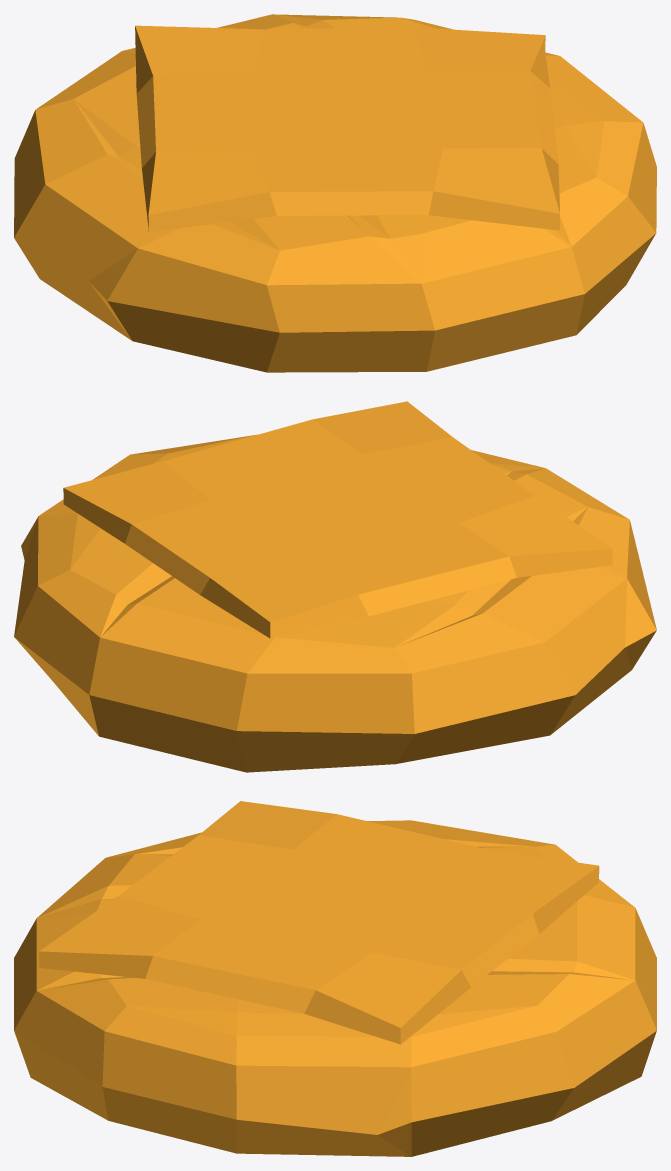
File: SM_Meat_Burger_Grilled_Cheese.fbx
The picture shows the model from 3 angles, top to bottom: view 1: azimuth 30°, elevation 25°; view 2: azimuth 150°, elevation 25°; view 3: azimuth 270°, elevation 25°; orthographic projection.
Parts seen in each view (by area): view 1: meat-burger-grilled-cheese; view 2: meat-burger-grilled-cheese; view 3: meat-burger-grilled-cheese.
Boxes of the visible parts, x1,y1,x2,y2 form: meat-burger-grilled-cheese: (14, 14, 656, 372); meat-burger-grilled-cheese: (14, 401, 656, 772); meat-burger-grilled-cheese: (14, 801, 656, 1156).
Size of the model in its own units: 0.1655 by 0.0393 by 0.1598.
